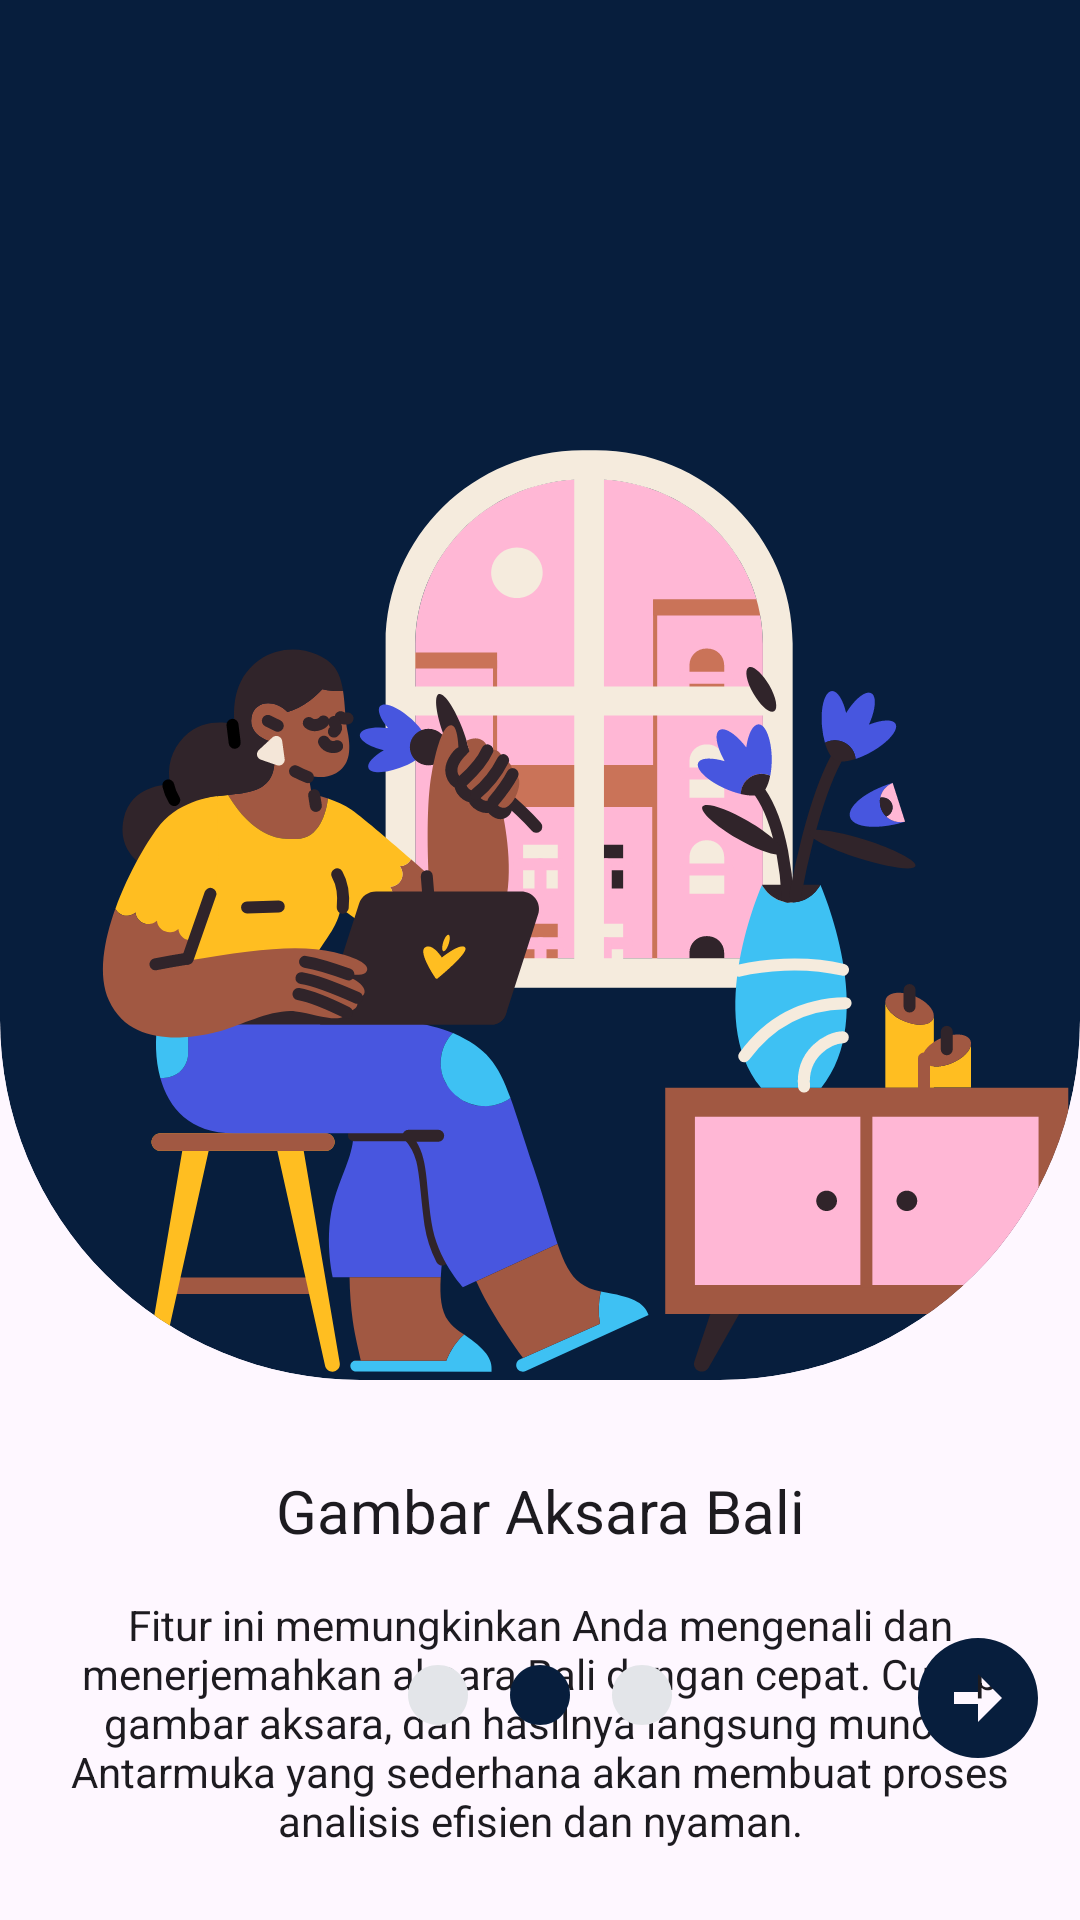

Screen size 1080 × 1920. Icon name, then its box in pixels as bbox=[x1, y1, x2, y2]:
Next: bbox=[910, 1638, 1038, 1758]
